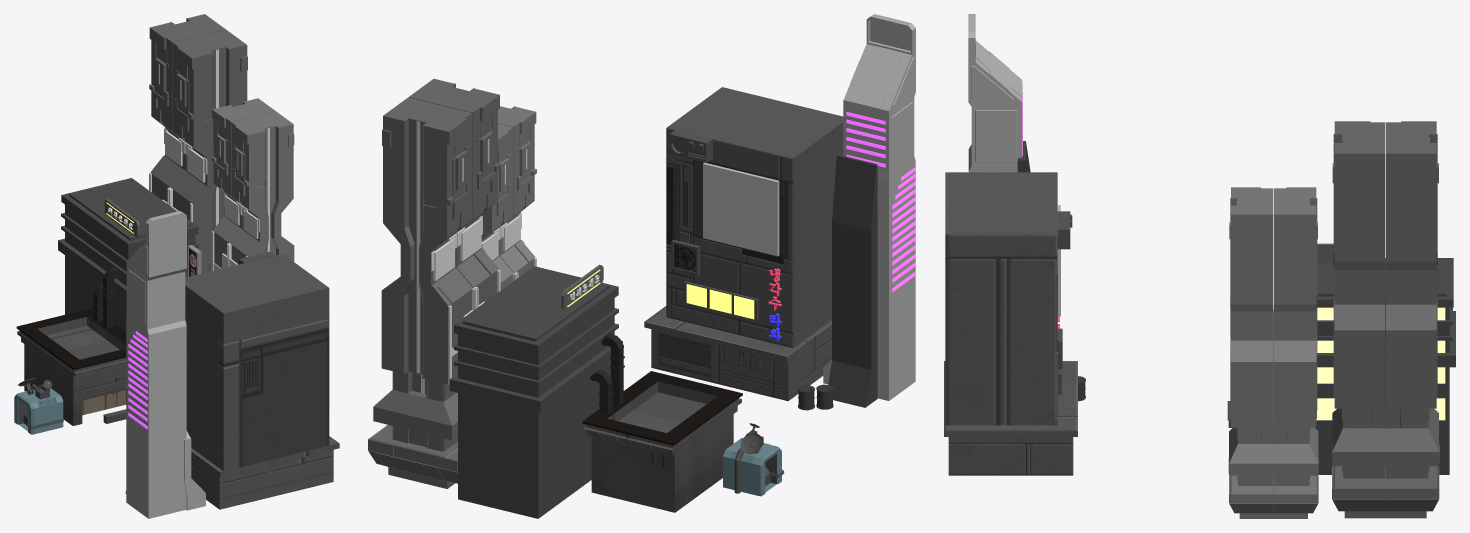
File: Block_3.fbx
The picture shows the model from 3 angles, left to right: view 1: azimuth 30°, elevation 25°; view 2: azimuth 150°, elevation 25°; view 3: azimuth 270°, elevation 25°; orthographic projection. The views are drawn at different scales.
Parts seen in each view (by area): view 1: Building06, High03, High02, High01, Building03.001, Building05_Middle_02, Building01_roof.001, Building01.001, Out_Body.003, Cube.026, Building05_Ventilator.002, Cube.001 (+1 smaller); view 2: High02, Building03.001, Building06, High03, Building05_Middle_02, Building01_roof.001, Building01.001, High01, Building05_LED.001, Out_Body.003, Building05_Wall_01, Cube.026 (+7 smaller); view 3: High02, High01, Building06, Building05_Middle_02, Building03.001, High03.
Boxes of the visible parts, x1,y1,x2,y2 form: Building06: (185, 254, 329, 471); High03: (125, 211, 205, 518); High02: (149, 14, 247, 273); High01: (211, 98, 294, 270); Building03.001: (58, 178, 202, 331); Building05_Middle_02: (191, 436, 339, 509); Building01_roof.001: (16, 308, 126, 379); Building01.001: (24, 344, 126, 425); Out_Body.003: (14, 388, 63, 434); Cube.026: (165, 131, 205, 182); Building05_Ventilator.002: (102, 267, 121, 327); Cube.001: (225, 196, 258, 238); High02: (368, 79, 500, 488); Building03.001: (449, 266, 622, 518); Building06: (666, 87, 843, 347); High03: (823, 14, 915, 407); Building05_Middle_02: (644, 306, 831, 401); Building01_roof.001: (582, 371, 742, 457); Building01.001: (591, 414, 733, 512); High01: (481, 106, 536, 290); Building05_LED.001: (703, 164, 777, 256); Out_Body.003: (723, 438, 781, 496); Building05_Wall_01: (683, 281, 758, 320); Cube.026: (433, 219, 481, 280); High02: (1332, 121, 1439, 518); High01: (1228, 187, 1318, 518); Building06: (945, 172, 1057, 425); Building05_Middle_02: (944, 361, 1077, 475); Building03.001: (1315, 258, 1455, 474); High03: (968, 14, 1030, 172).
Bounding box in the file's own units: 4740 × 5132 × 6512.
